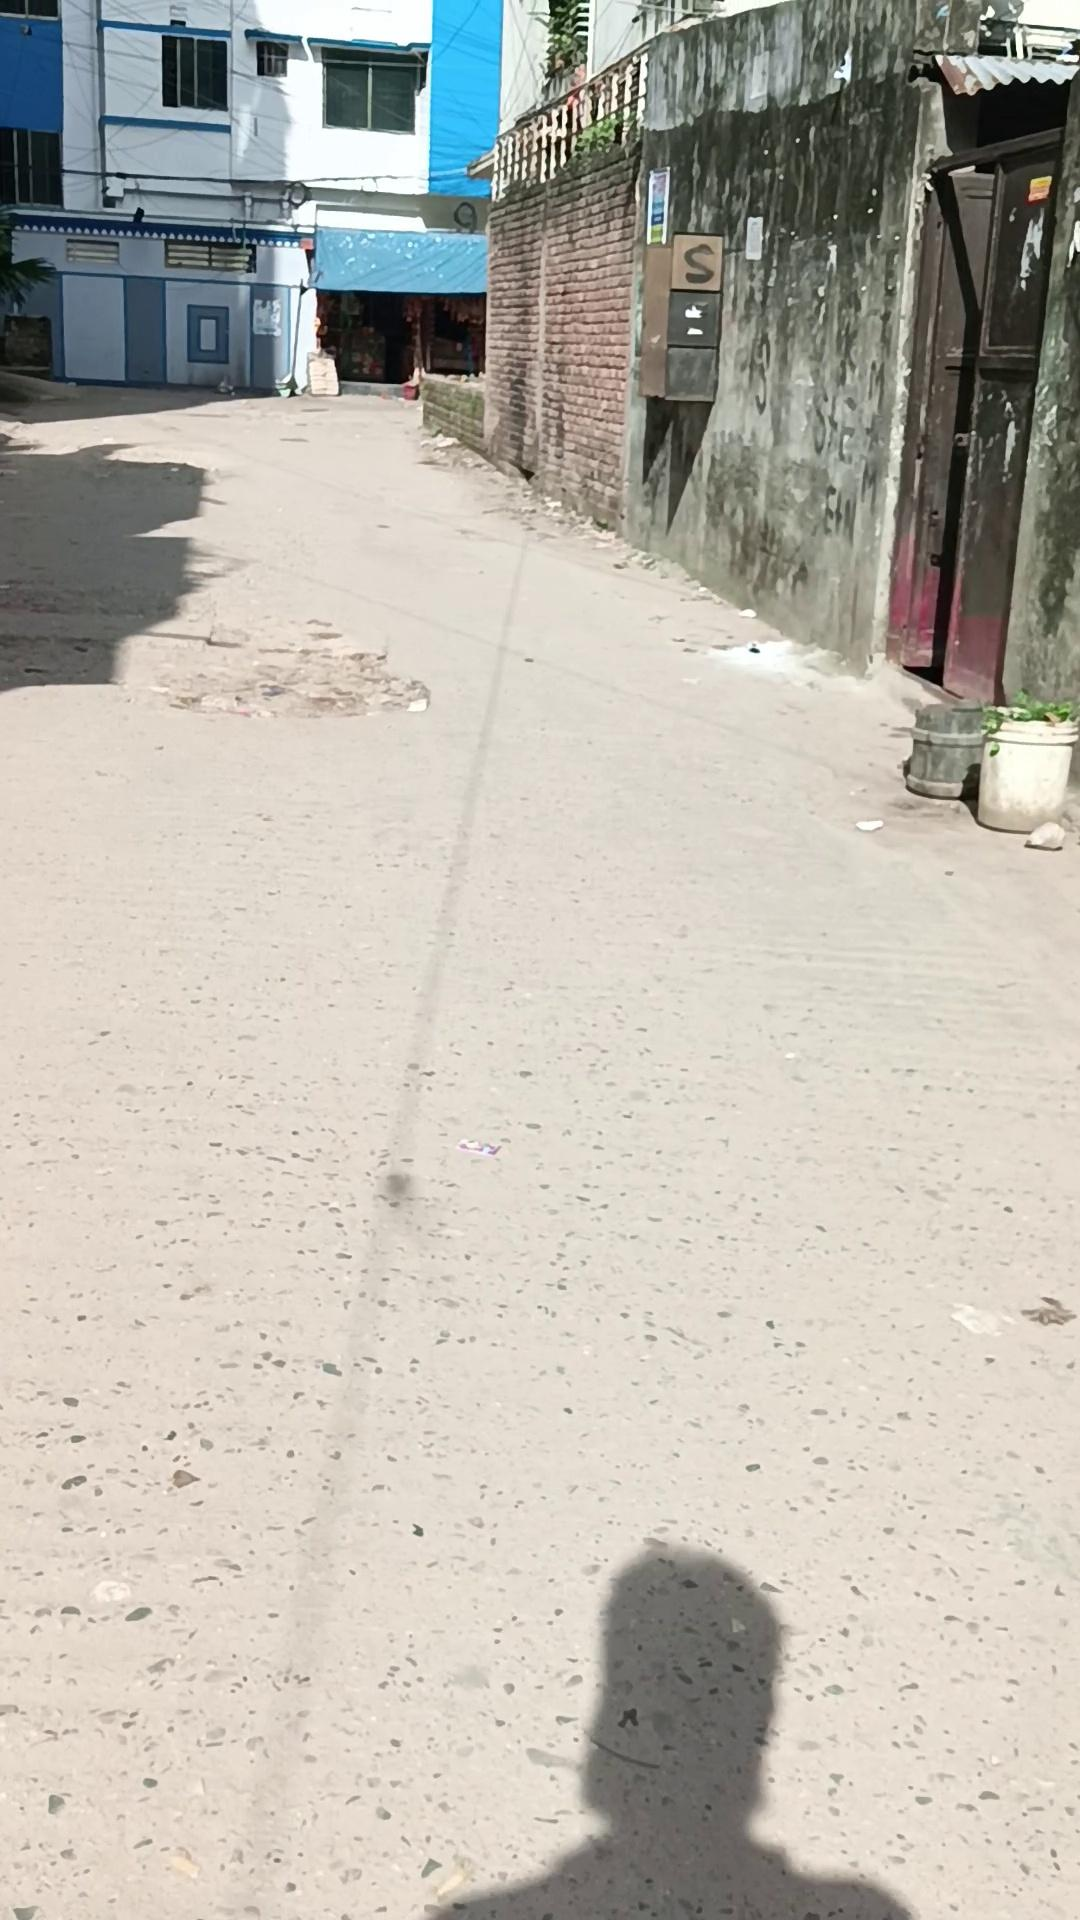Broken-road: (3, 382, 1080, 1916)
Garbage: (973, 687, 1077, 833)
Tree: (418, 3, 972, 709)
